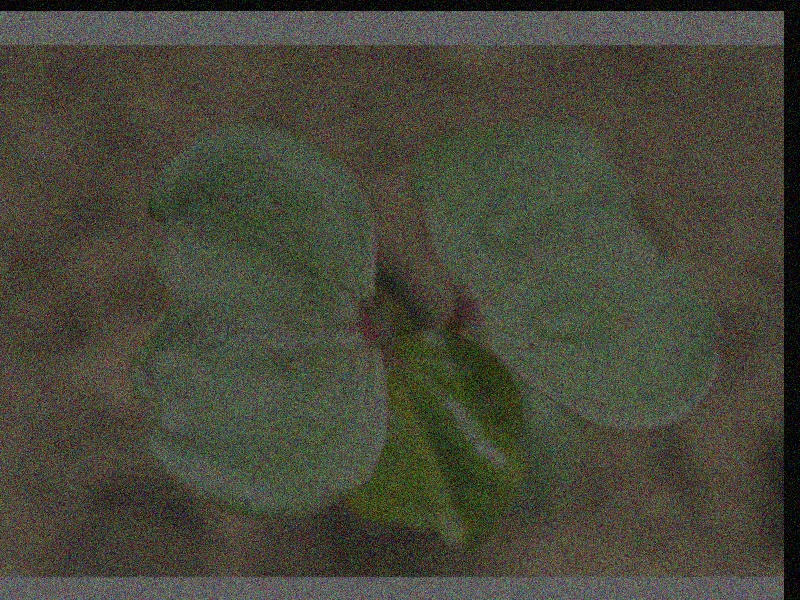cotton: (129, 119, 724, 554)
